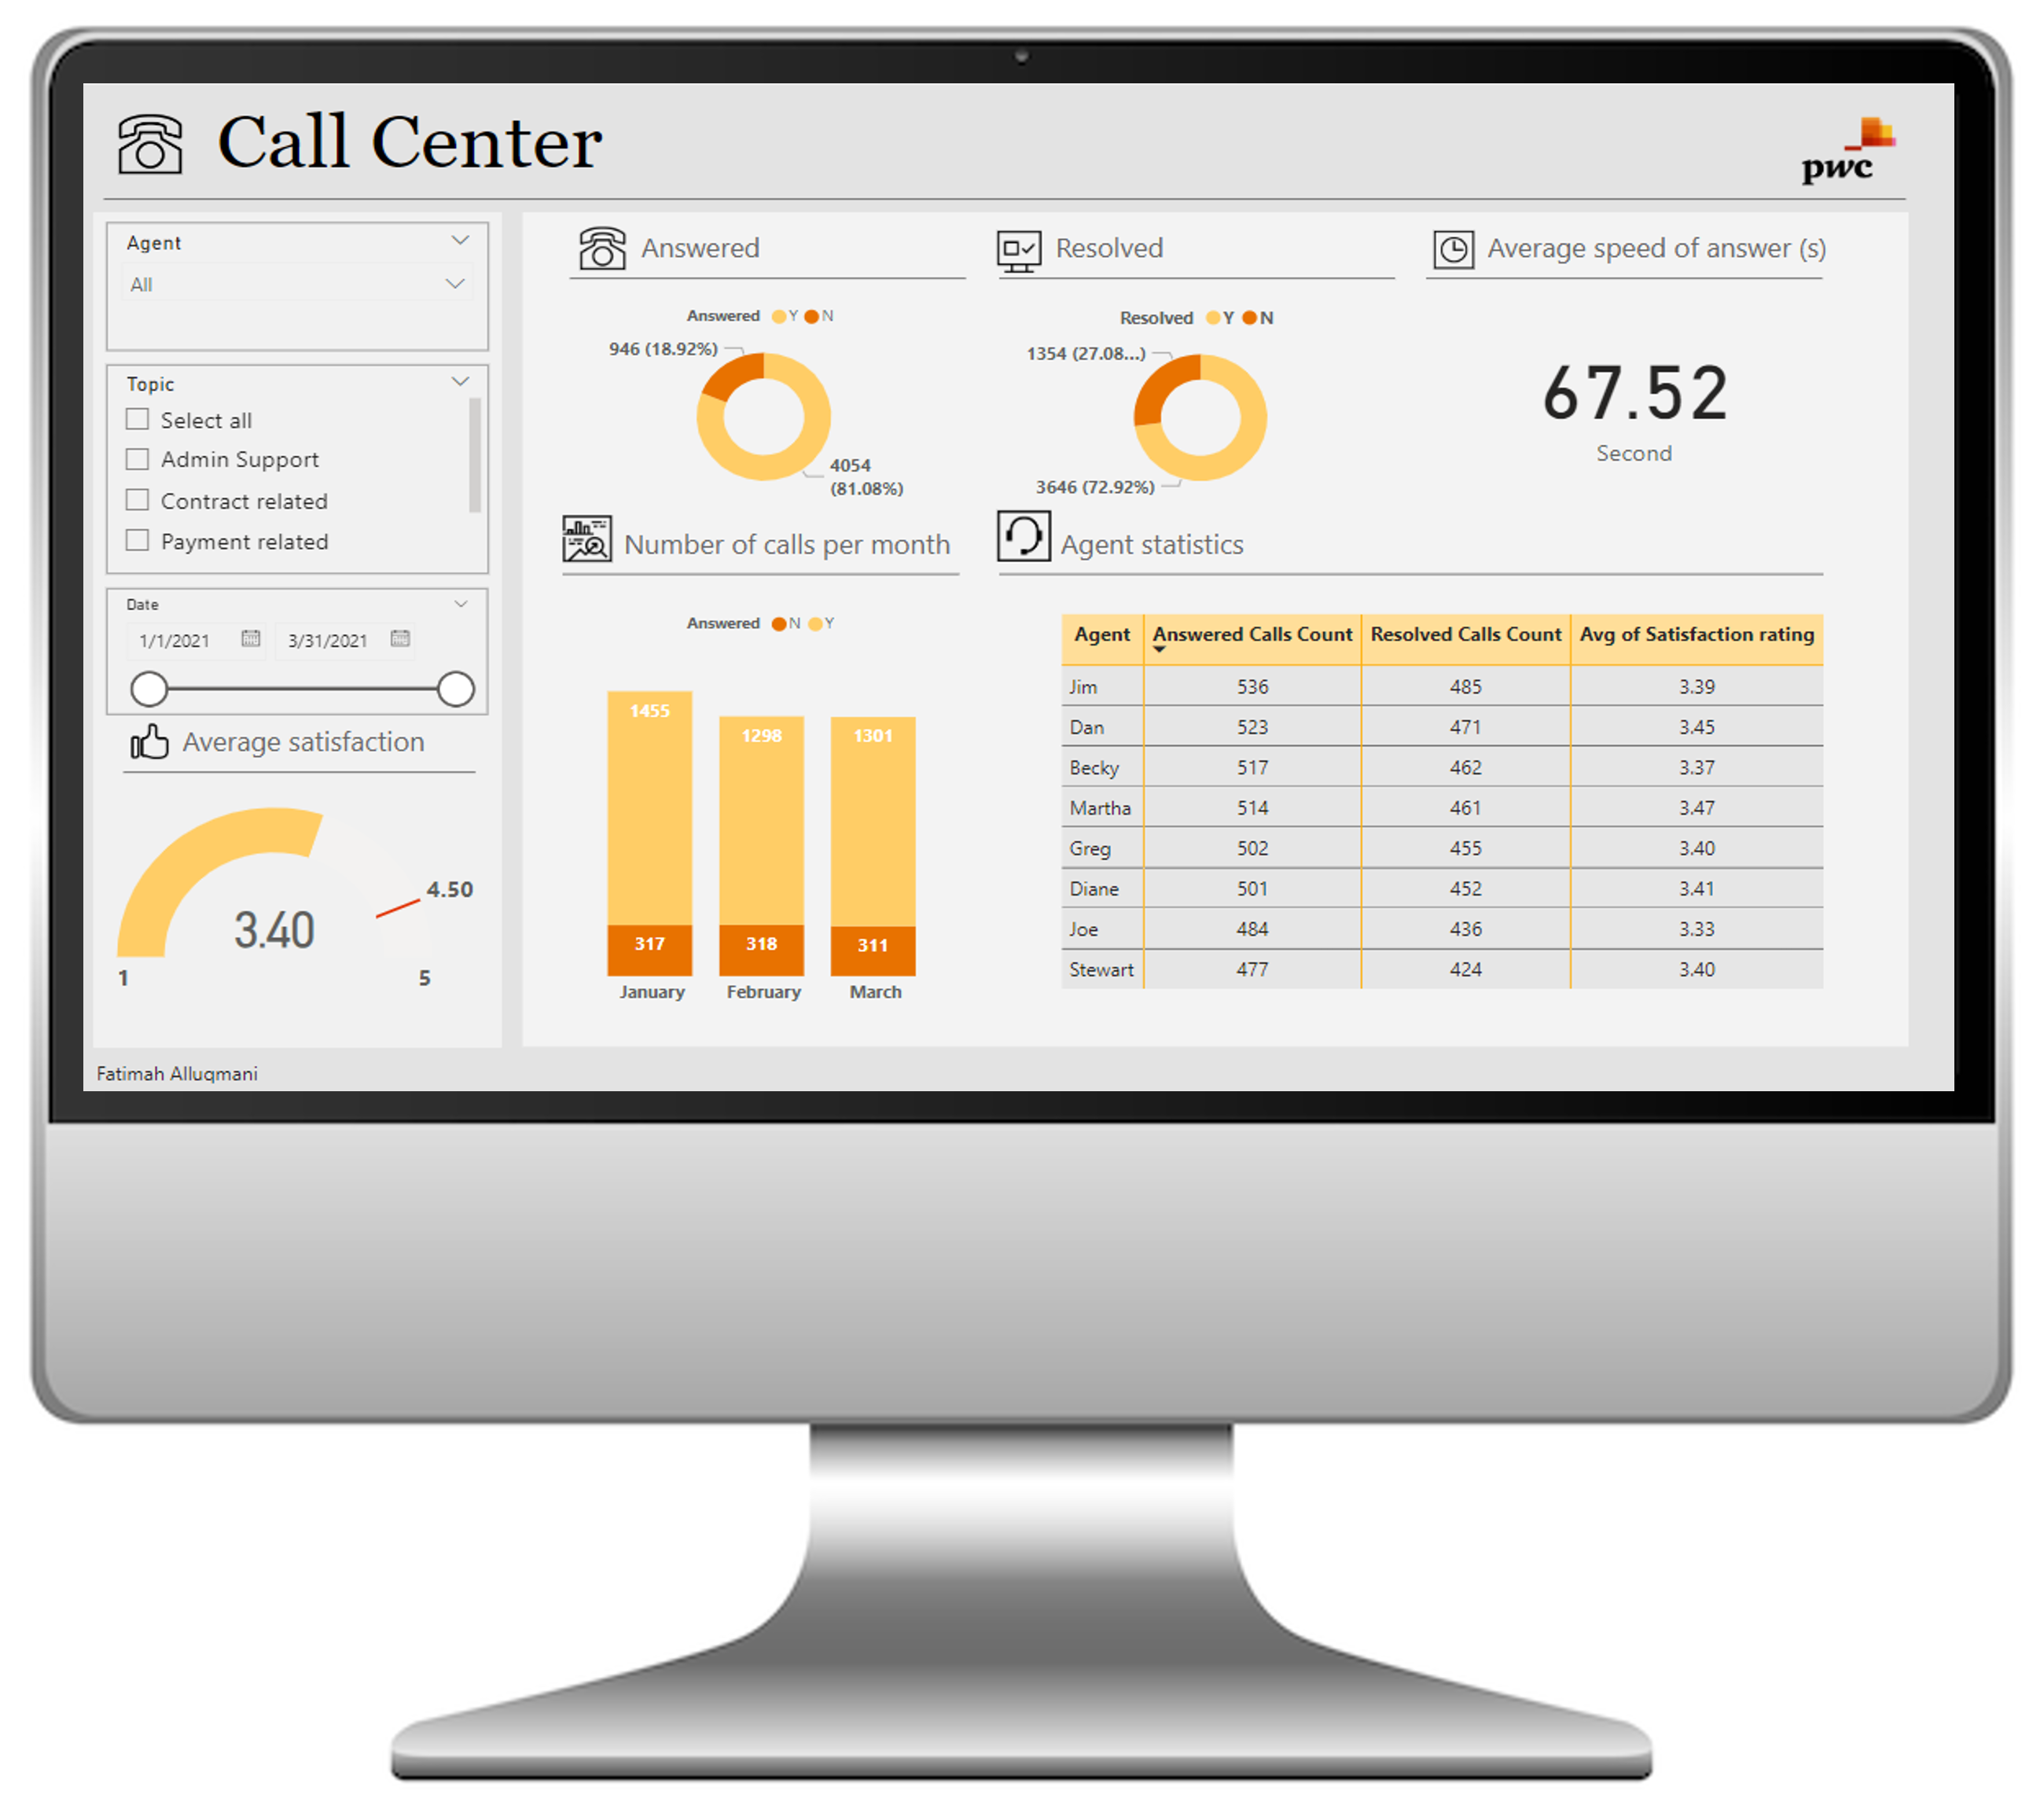

What the dashboard file says about the page in this screenshot:
{"tool":"powerbi","page":{"name":"Call Center Manager","canvas":[1280,720],"ordinal":0},"visuals":[{"type":"textbox","box":[89.7,4.8,1172,75.2],"z":0},{"type":"basicShape","box":[9,61,1244.3,40.1],"z":1000},{"type":"basicShape","box":[8.3,85,283.3,610],"z":2000},{"type":"basicShape","box":[292.7,84.3,960.7,609.2],"z":3000},{"type":"image","box":[1129,0,151,94.5],"z":4000},{"type":"image","box":[24.1,7.7,53.1,68.5],"z":5000},{"type":"image","box":[31.1,452.4,35.7,35.7],"z":6000},{"type":"textbox","box":[66.8,452.4,188.1,35.7],"z":7000},{"type":"basicShape","box":[21.2,472.5,259.1,40.2],"z":8000},{"type":"textbox","box":[378.6,98.3,172,35.7],"z":9000},{"type":"textbox","box":[660.1,98.3,183.2,35.7],"z":10000},{"type":"basicShape","box":[906.9,118.4,289.3,40.2],"z":11000},{"type":"textbox","box":[953.9,98.3,250.2,35.7],"z":12000},{"type":"basicShape","box":[325,118.4,289,40.2],"z":13000},{"type":"basicShape","box":[616,118.4,289,40.2],"z":14000},{"type":"image","box":[915.9,88.2,38,59.2],"z":15000},{"type":"image","box":[337.3,94.9,41.3,43.6],"z":16000},{"type":"image","box":[619.9,88.2,40.2,61.4],"z":17000},{"type":"textbox","box":[367.4,310.5,250.2,35.7],"z":18000},{"type":"basicShape","box":[320.5,330.6,289.3,40.2],"z":19000},{"type":"textbox","box":[663.4,309.3,250.2,35.7],"z":20000},{"type":"basicShape","box":[616.5,329.5,579.7,40.2],"z":21000},{"type":"image","box":[619.9,294.9,46.9,55.8],"z":22000},{"type":"image","box":[325,290.4,43.6,69.2],"z":23000},{"type":"textbox","box":[7.7,691.6,403.2,28],"z":24000},{"type":"gauge","title":"Average of Satisfaction rating","fields":{"Y":["Sheet1.Satisfaction rating"],"MinValue":["Sheet1.Satisfaction rating"],"MaxValue":["Sheet1.Satisfaction rating"]},"box":[21.7,511.7,258.3,148.3],"z":25000},{"type":"donutChart","fields":{"Y":["Sheet1.Answered (Y/N)"],"Category":["Sheet1.Answered (Y/N)"]},"box":[324.5,146.3,283.1,154.3],"z":26000},{"type":"columnChart","fields":{"Category":["Sheet1.Date.Variation.Date Hierarchy.Month"],"Y":["Sheet1.Call Id"],"Series":["Sheet1.Answered (Y/N)"]},"box":[324.5,365.8,283.1,300.6],"z":27000},{"type":"donutChart","fields":{"Category":["Sheet1.Resolved"],"Y":["Sheet1.Resolved"]},"box":[621.9,146.3,283.1,154.3],"z":28000},{"type":"card","fields":{"Values":["Call Center.Speed of answer in seconds"]},"box":[916.2,146.3,283,154],"z":29000},{"type":"slicer","fields":{"Values":["Sheet1.Agent"]},"box":[20,98.3,260,91.7],"z":30000},{"type":"slicer","fields":{"Values":["Sheet1.Topic"]},"box":[20,200,260,150],"z":31000},{"type":"slicer","fields":{"Values":["Sheet1.Date"]},"box":[20.7,359.5,259.3,90.7],"z":32000},{"type":"tableEx","fields":{"Values":["Sheet1.Agent","Sheet1.AnsweredCallsCount","Sheet1.ResolvedCallsCount","Sheet1.Satisfaction rating"]},"box":[663.3,373.8,532.9,292.7],"z":33000}]}

Visuals, with their boxes on the page's 1280x720 design canvas (x1, y1, x2, y2). These are canvas units, not pixel positions in the 2044x1809 screenshot, which may show the page scaled, cropped or inside an application window:
textbox: locate(90, 5, 1262, 80)
basicShape: locate(9, 61, 1253, 101)
basicShape: locate(8, 85, 292, 695)
basicShape: locate(293, 84, 1253, 694)
image: locate(1129, 0, 1280, 94)
image: locate(24, 8, 77, 76)
image: locate(31, 452, 67, 488)
textbox: locate(67, 452, 255, 488)
basicShape: locate(21, 472, 280, 513)
textbox: locate(379, 98, 551, 134)
textbox: locate(660, 98, 843, 134)
basicShape: locate(907, 118, 1196, 159)
textbox: locate(954, 98, 1204, 134)
basicShape: locate(325, 118, 614, 159)
basicShape: locate(616, 118, 905, 159)
image: locate(916, 88, 954, 147)
image: locate(337, 95, 379, 138)
image: locate(620, 88, 660, 150)
textbox: locate(367, 310, 618, 346)
basicShape: locate(320, 331, 610, 371)
textbox: locate(663, 309, 914, 345)
basicShape: locate(616, 330, 1196, 370)
image: locate(620, 295, 667, 351)
image: locate(325, 290, 369, 360)
textbox: locate(8, 692, 411, 720)
"Average of Satisfaction rating" gauge: locate(22, 512, 280, 660)
donutChart - Sheet1.Answered (Y/N) x Sheet1.Answered (Y/N): locate(324, 146, 608, 301)
columnChart - Sheet1.Date.Variation.Date Hierarchy.Month x Sheet1.Call Id: locate(324, 366, 608, 666)
donutChart - Sheet1.Resolved x Sheet1.Resolved: locate(622, 146, 905, 301)
card - Call Center.Speed of answer in seconds: locate(916, 146, 1199, 300)
slicer - Sheet1.Agent: locate(20, 98, 280, 190)
slicer - Sheet1.Topic: locate(20, 200, 280, 350)
slicer - Sheet1.Date: locate(21, 360, 280, 450)
tableEx - Sheet1.Agent x Sheet1.AnsweredCallsCount: locate(663, 374, 1196, 666)
